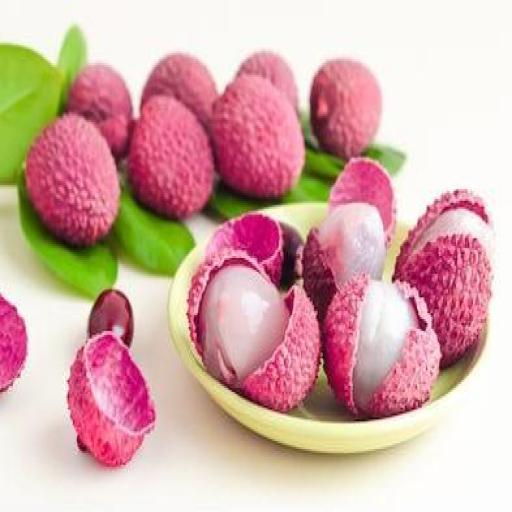lychee: (188, 253, 320, 411), (394, 192, 493, 366), (324, 274, 440, 417), (303, 158, 396, 320), (27, 115, 119, 246), (68, 331, 155, 466), (212, 75, 304, 198), (127, 97, 213, 218), (303, 203, 385, 320), (311, 60, 381, 157), (67, 64, 132, 159), (329, 158, 396, 246), (141, 54, 217, 129), (205, 213, 284, 283), (238, 52, 298, 110), (0, 296, 27, 391), (281, 223, 303, 289)
